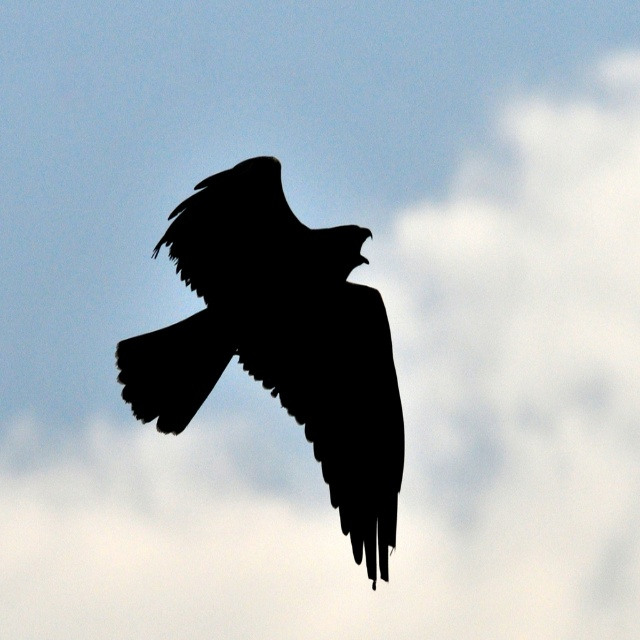Raven: (117, 153, 407, 586)
